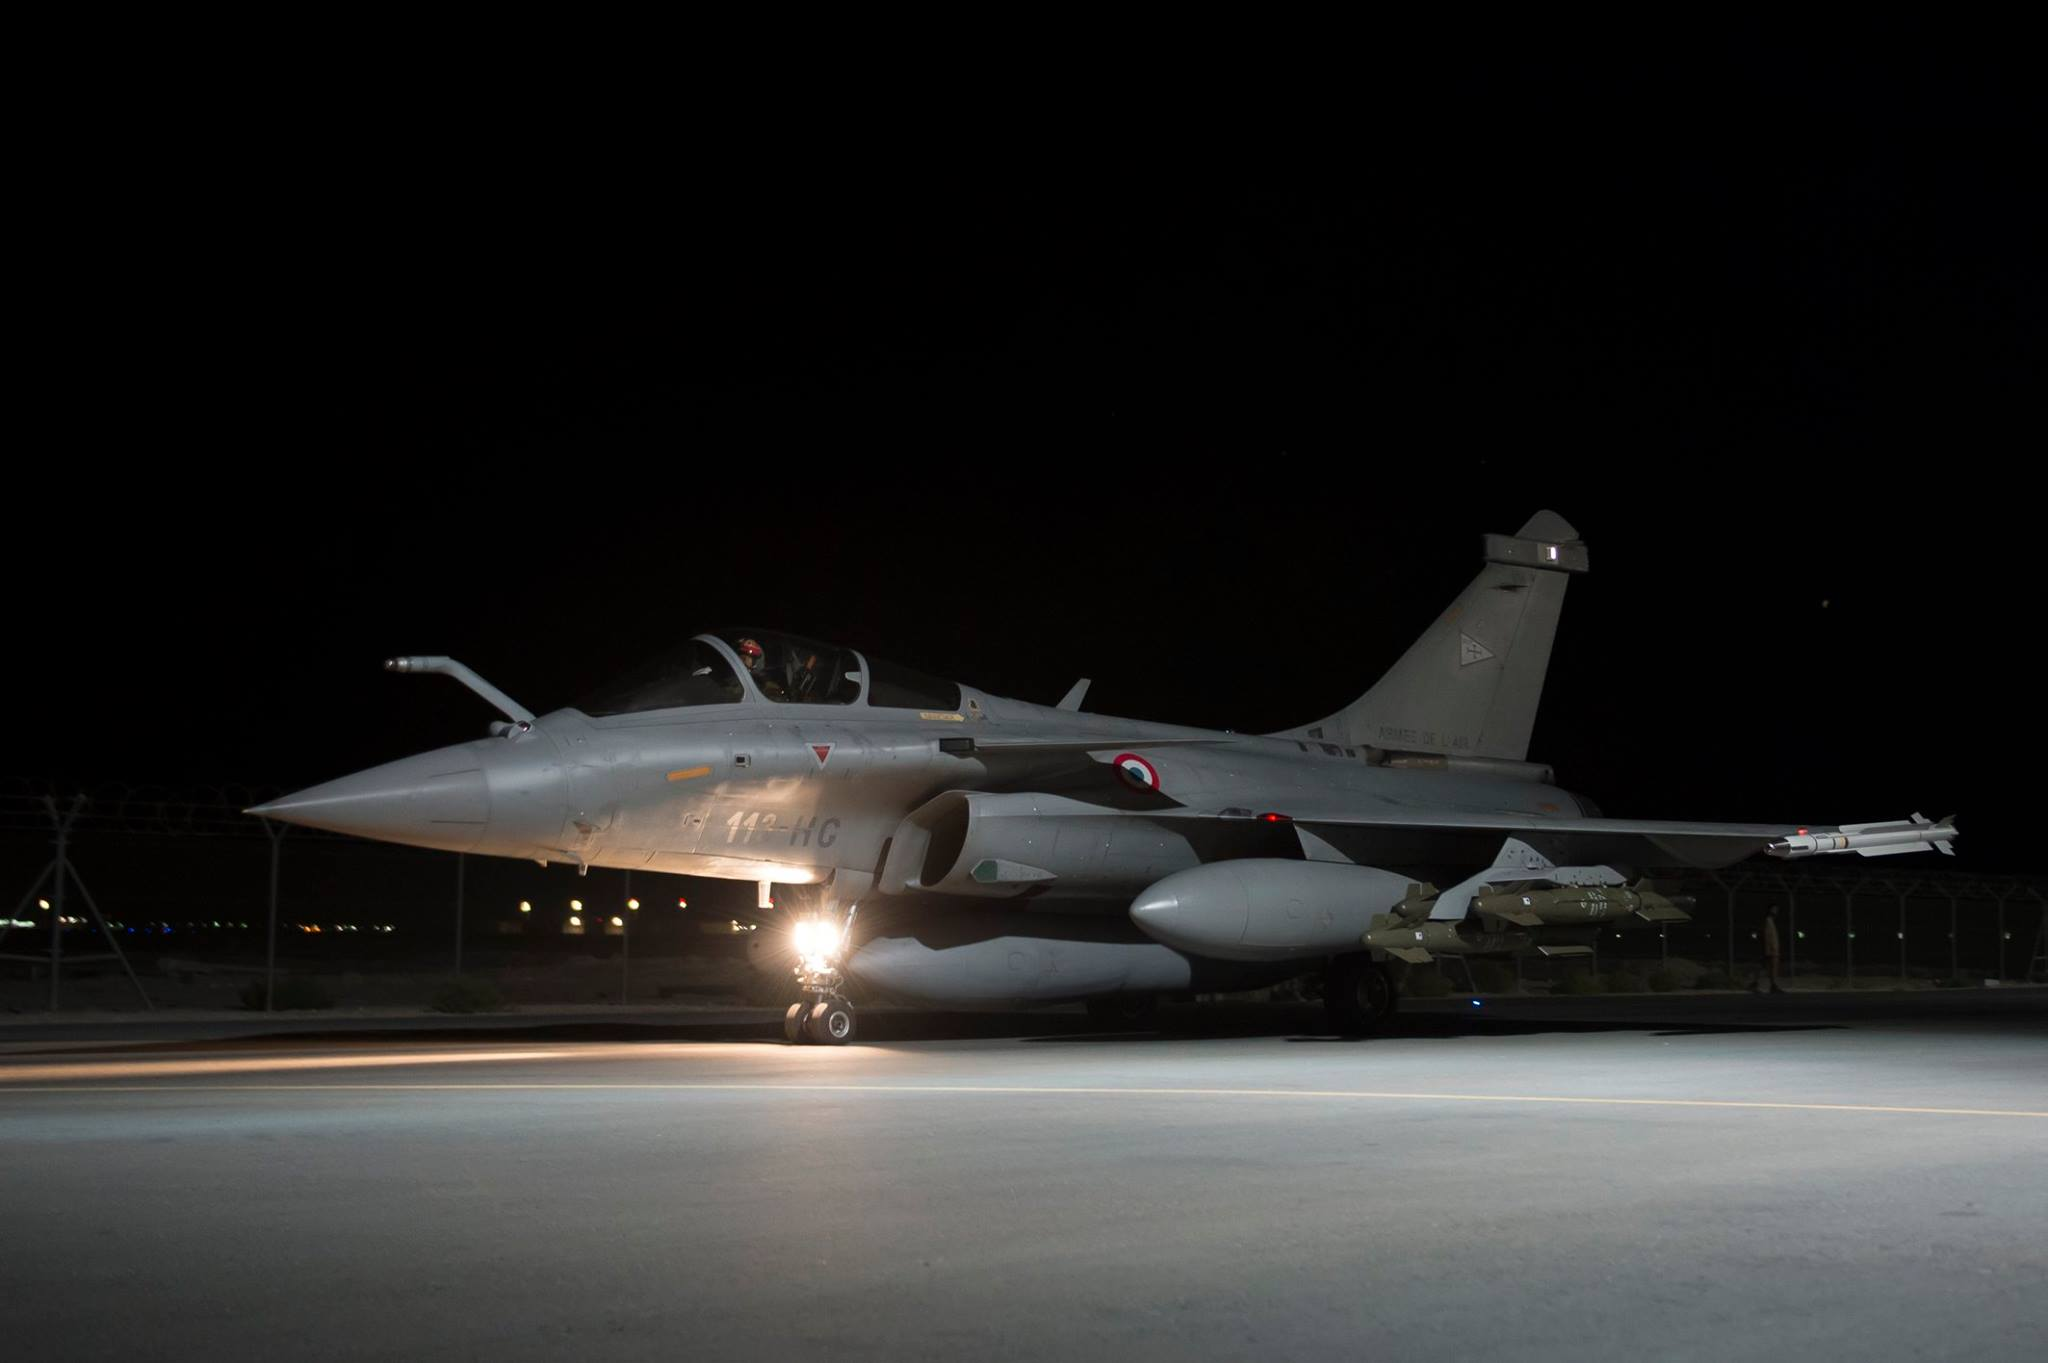Aeronef_militaire: (220, 484, 1980, 1072)
